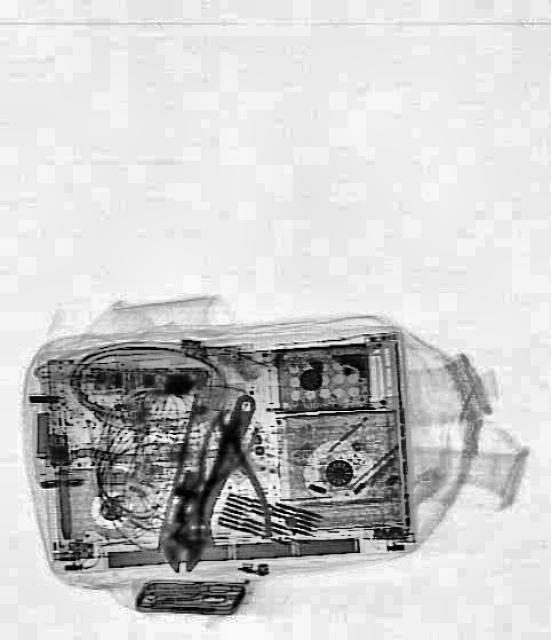Pliers: (194, 406, 272, 542)
Wrench: (150, 381, 268, 581)
